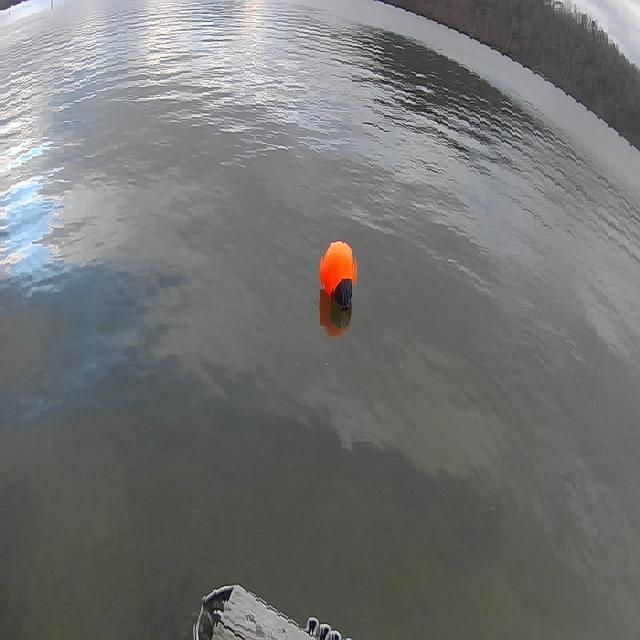Buoy: (312, 227, 364, 328)
